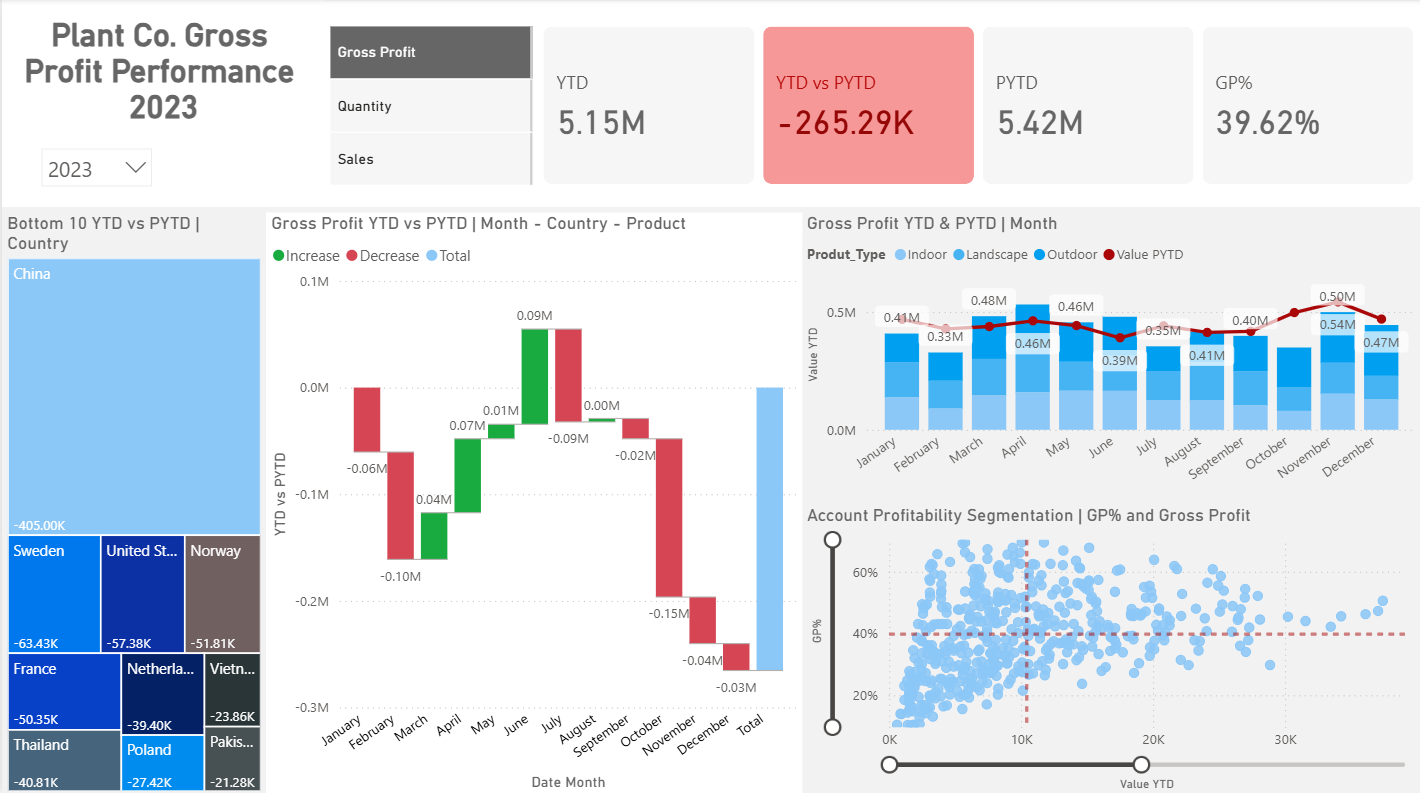

The dashboard page shown, as its layout file describes it:
{"tool":"powerbi","page":{"name":"Performance Report","canvas":[1280,720],"ordinal":0},"visuals":[{"type":"slicer","fields":{"Values":["Dim_Date.Date.Variation.Date Hierarchy.Year"]},"box":[25.7,125.7,119.6,66.6],"z":0},{"type":"cardVisual","fields":{"Data":["_Measures.S_YTD","_Measures.YTD vs PYTD","_Measures.S_PYTD","_Measures.GP%"]},"box":[483,19.7,796.5,152.9],"z":1},{"type":"advancedSlicerVisual","fields":{"Values":["Slc_Values.Values"]},"box":[290.7,19.7,192.3,154.4],"z":2},{"type":"treemap","title":"Bottom 10 YTD vs PYTD | Country","fields":{"Values":["_Measures.YTD vs PYTD"],"Group":["Dim_Account.country"]},"box":[0,193.8,237.7,526.9],"z":3},{"type":"waterfallChart","fields":{"Y":["_Measures.YTD vs PYTD"],"Category":["Dim_Date.Date.Variation.Date Hierarchy.Month","Dim_Account.country","Dim_Product.Produt_Type","Dim_Product.Product_Name"]},"box":[237.7,193.8,483,525.4],"z":4},{"type":"lineStackedColumnComboChart","fields":{"Y":["_Measures.S_YTD"],"Y2":["_Measures.S_PYTD"],"Category":["Dim_Date.Date.Variation.Date Hierarchy.Quarter","Dim_Date.Date.Variation.Date Hierarchy.Month"],"Series":["Dim_Product.Produt_Type"]},"box":[720.8,193.8,558.7,263.5],"z":5},{"type":"scatterChart","fields":{"Y":["_Measures.GP%"],"X":["_Measures.S_YTD"],"Category":["Dim_Account.Account"]},"box":[720.8,457.3,558.7,262],"z":6},{"type":"card","fields":{"Values":["_Measures._Report title"]},"box":[0,0,290.7,125.7],"z":7}]}

Visuals, with their boxes in screenshot pixels (x1, y1, x2, y2), scaled from the page's 1280x720 canvas onto the 1420x793 screenshot:
slicer - Dim_Date.Date.Variation.Date Hierarchy.Year: 29/138/161/212
cardVisual - _Measures.S_YTD x _Measures.YTD vs PYTD: 536/22/1419/190
advancedSlicerVisual - Slc_Values.Values: 322/22/536/192
"Bottom 10 YTD vs PYTD | Country" treemap: 0/213/264/792
waterfallChart - _Measures.YTD vs PYTD x Dim_Date.Date.Variation.Date Hierarchy.Month: 264/213/800/792
lineStackedColumnComboChart - _Measures.S_YTD x _Measures.S_PYTD: 800/213/1419/504
scatterChart - _Measures.GP% x _Measures.S_YTD: 800/504/1419/792
card - _Measures._Report title: 0/0/322/138
